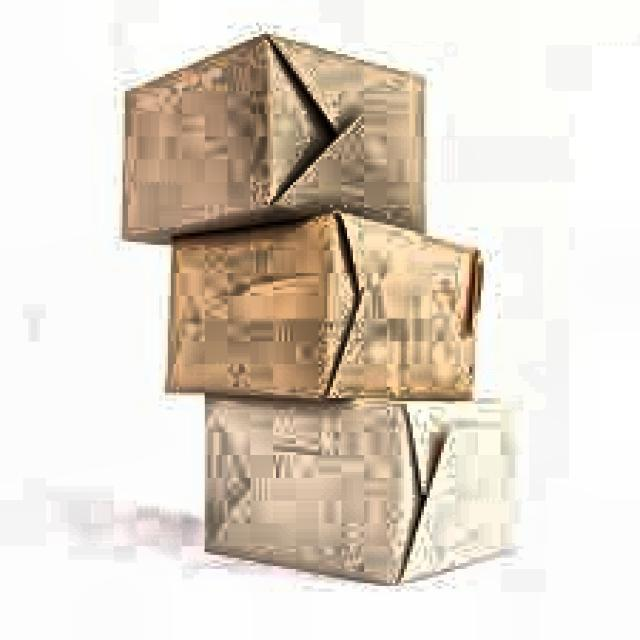cardboard: (120, 31, 426, 242), (162, 208, 484, 402), (202, 392, 512, 584)
